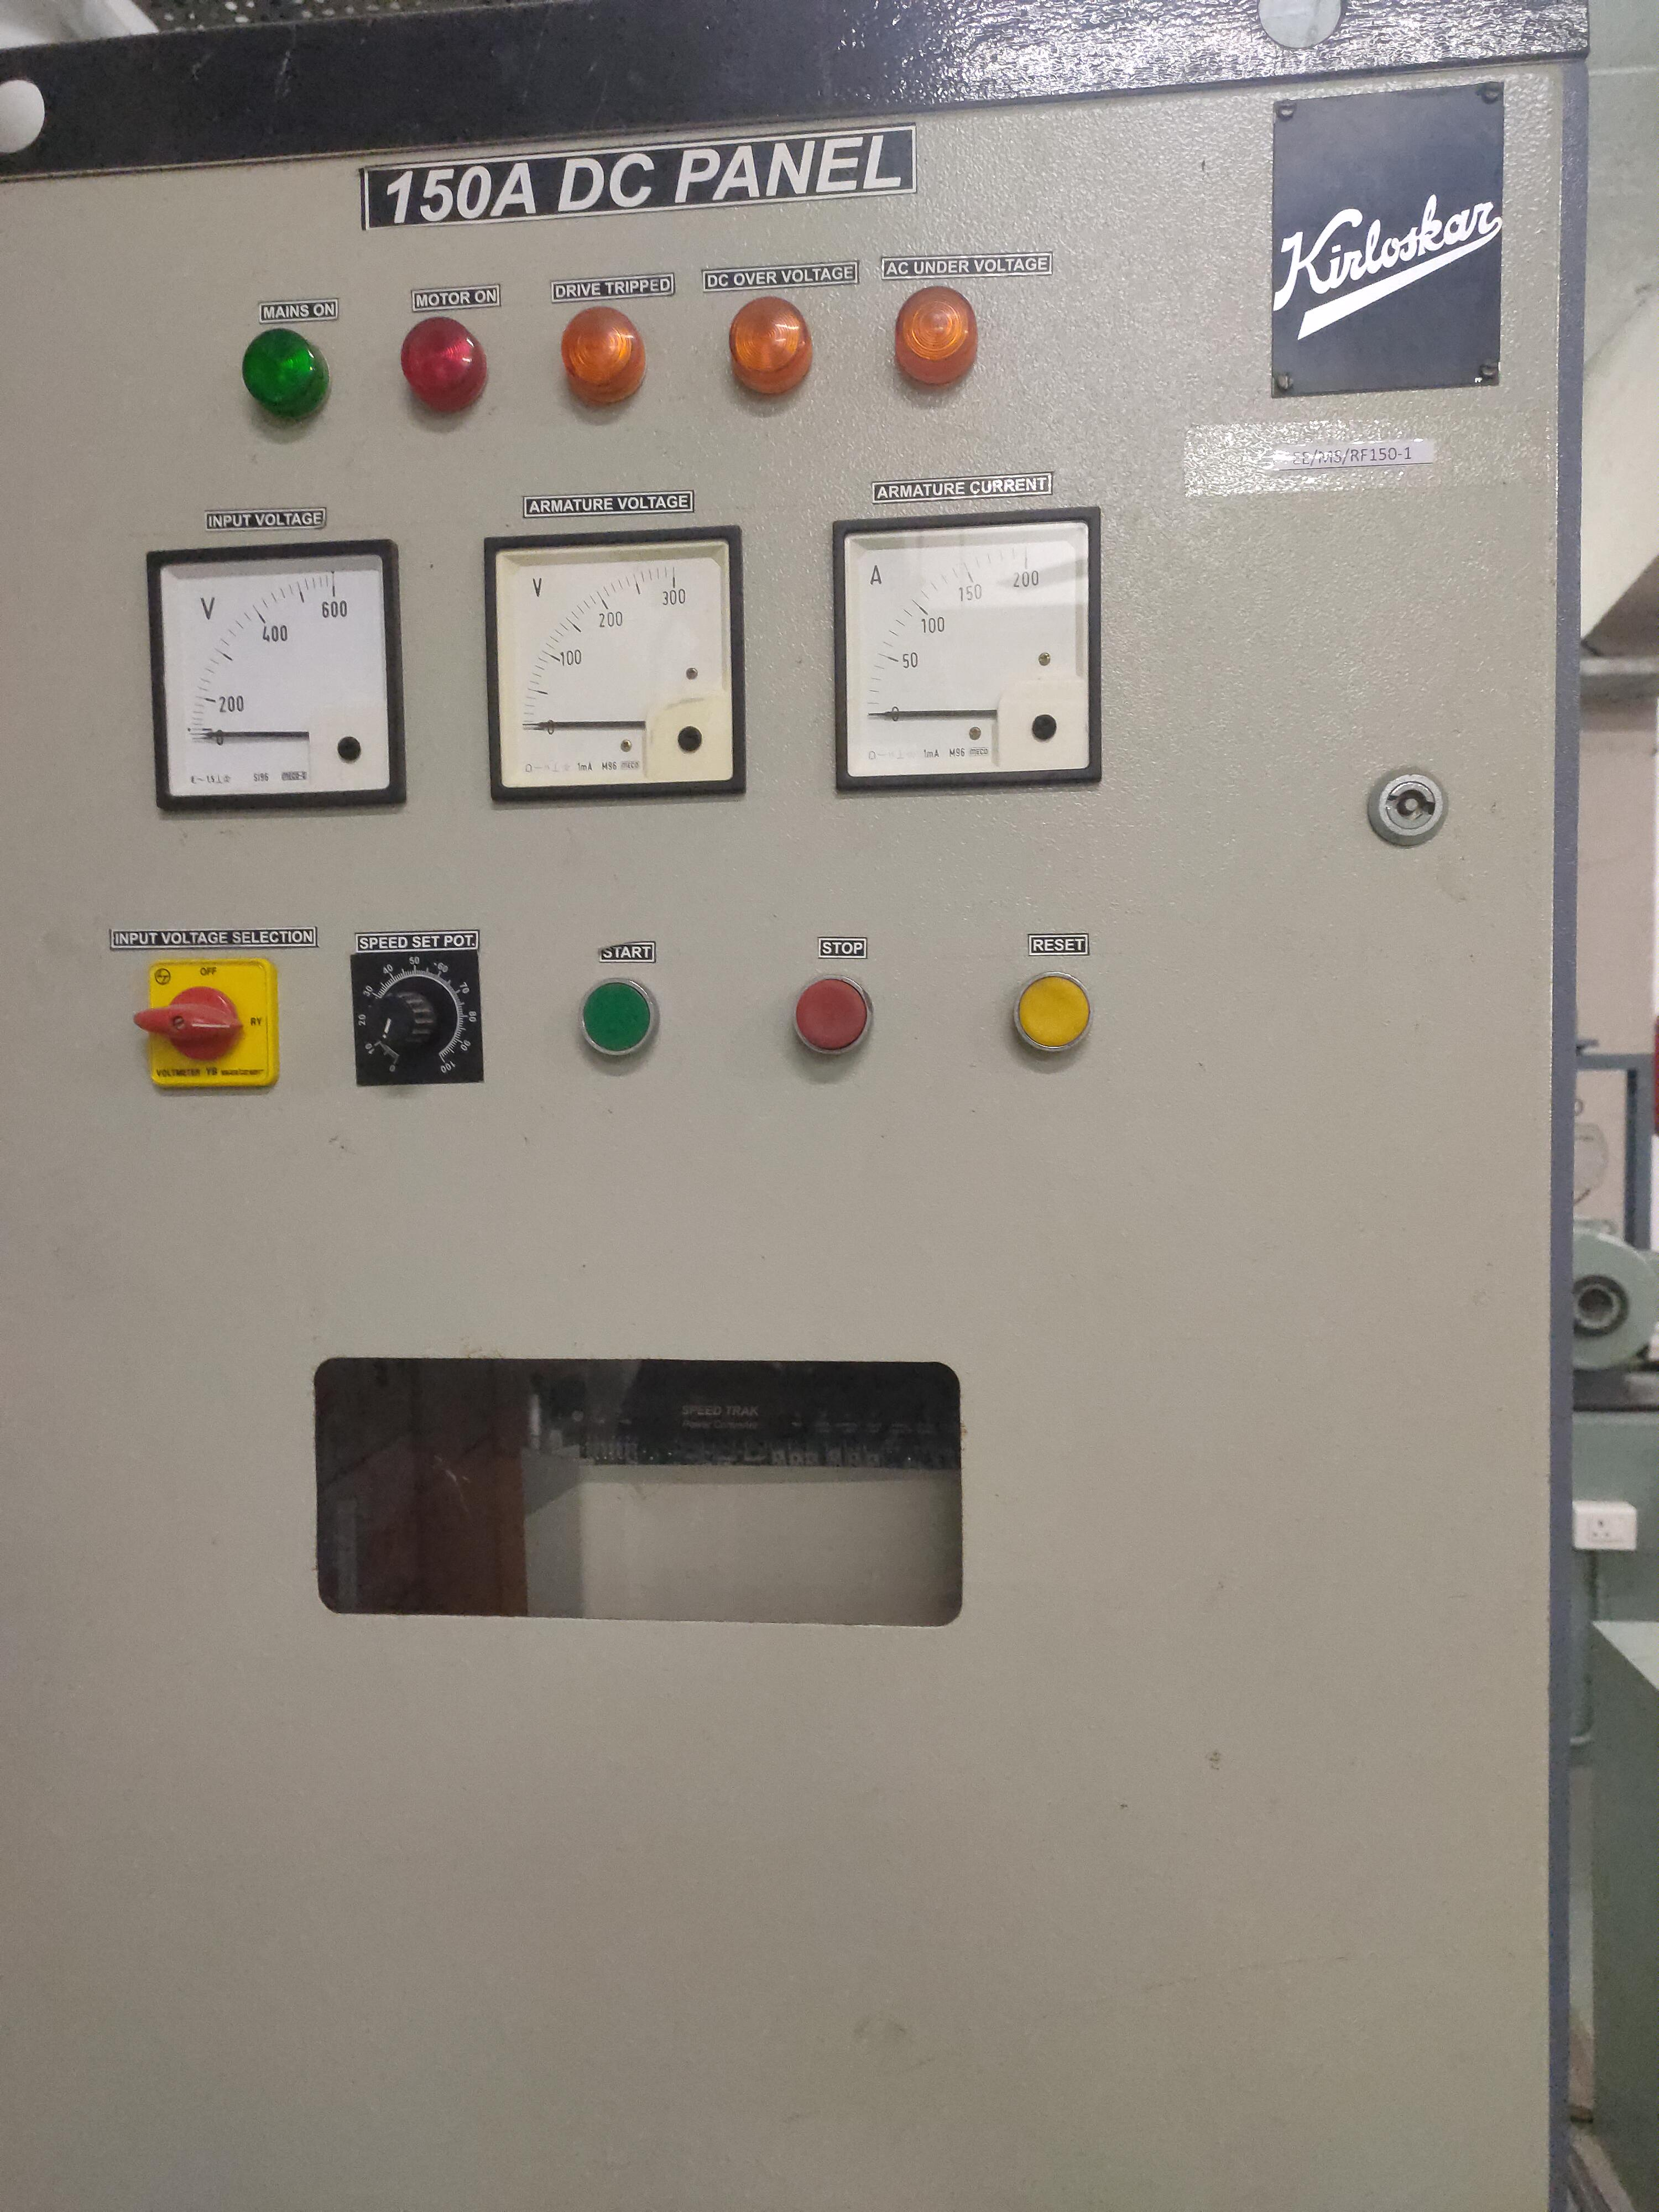Light Indications: (204, 260, 1011, 455)
